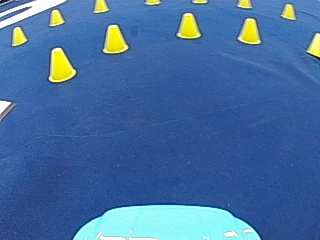cone: (47, 46, 76, 82), (102, 23, 128, 53), (175, 12, 201, 38), (236, 17, 261, 44), (11, 25, 27, 45), (306, 32, 319, 56), (48, 9, 64, 26), (280, 3, 296, 19), (93, 0, 108, 13), (237, 0, 251, 9)
